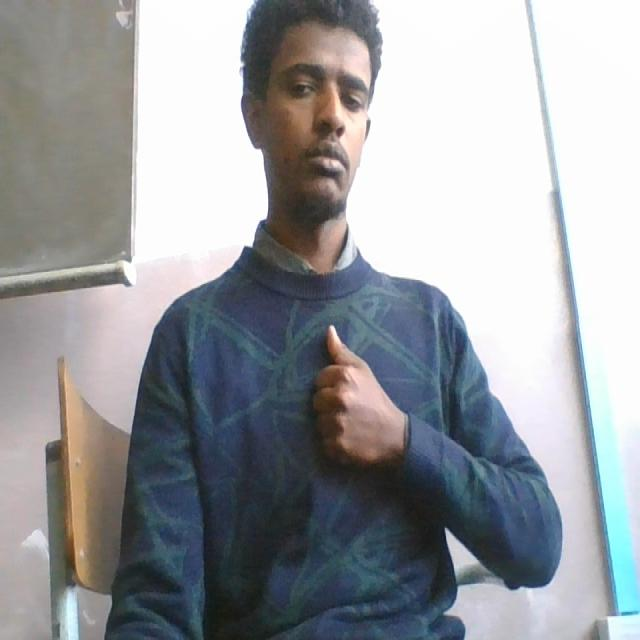yerase: (303, 320, 401, 472)
